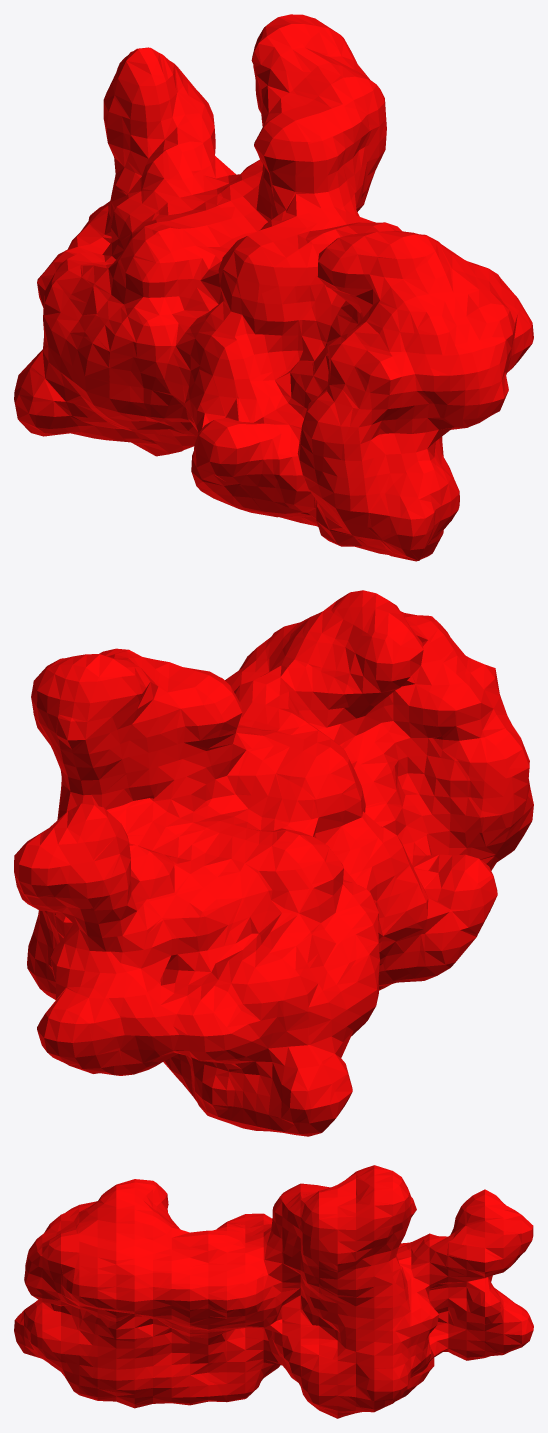
File: hslU_coarse.dae
The picture shows the model from 3 angles, top to bottom: view 1: azimuth 30°, elevation 25°; view 2: azimuth 150°, elevation 25°; view 3: azimuth 270°, elevation 25°; orthographic projection. The views are drawn at different scales.
Parts seen in each view (by area): view 1: hslU; view 2: hslU; view 3: hslU.
Boxes of the visible parts, x1,y1,x2,y2 form: hslU: [14, 14, 533, 561]; hslU: [14, 590, 533, 1136]; hslU: [14, 1165, 533, 1418].
Size of the model in its own units: 75.3 by 91.3 by 154.
